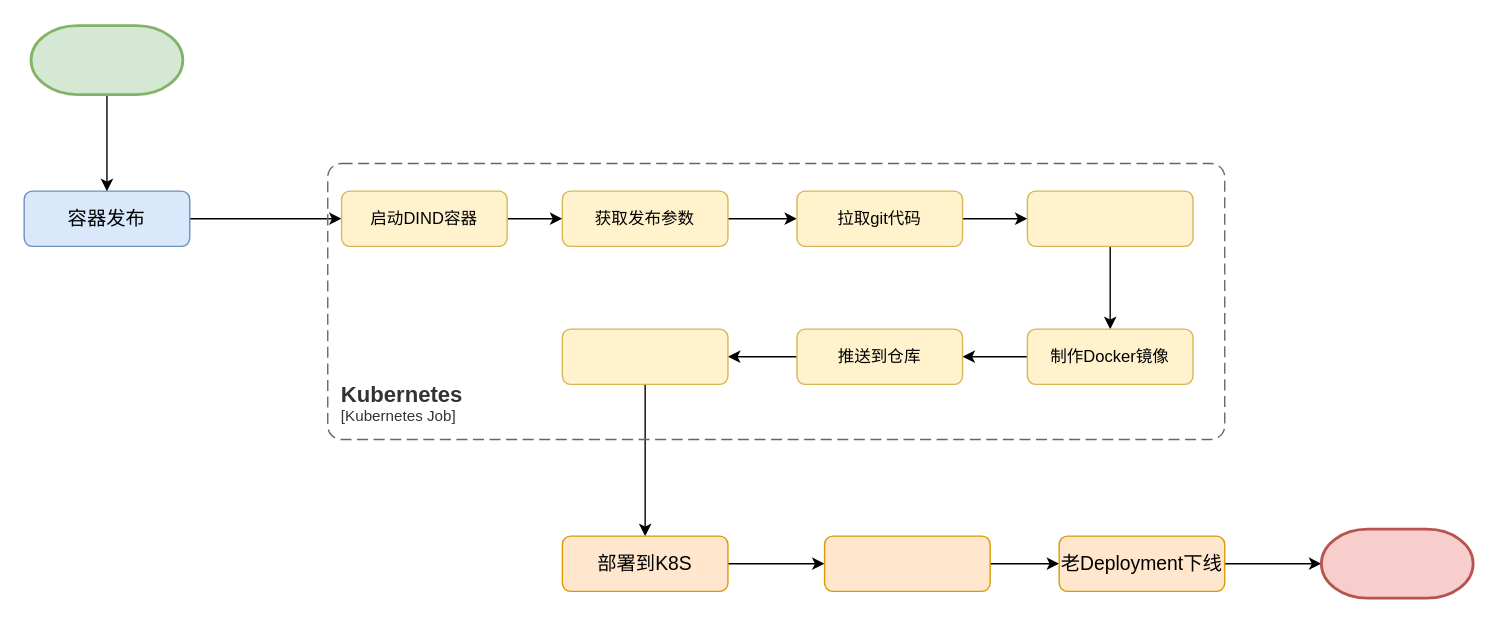
Image size: 1499x622. Some labels were removed from this diagram. The centre of each missing label's shape, as x and y in pixels:
回调发布系统: (644,356)
应用编译打包: (1109,218)
开始: (106,59)
新老Deployment 流量控制: (906,563)
结束: (1396,563)
